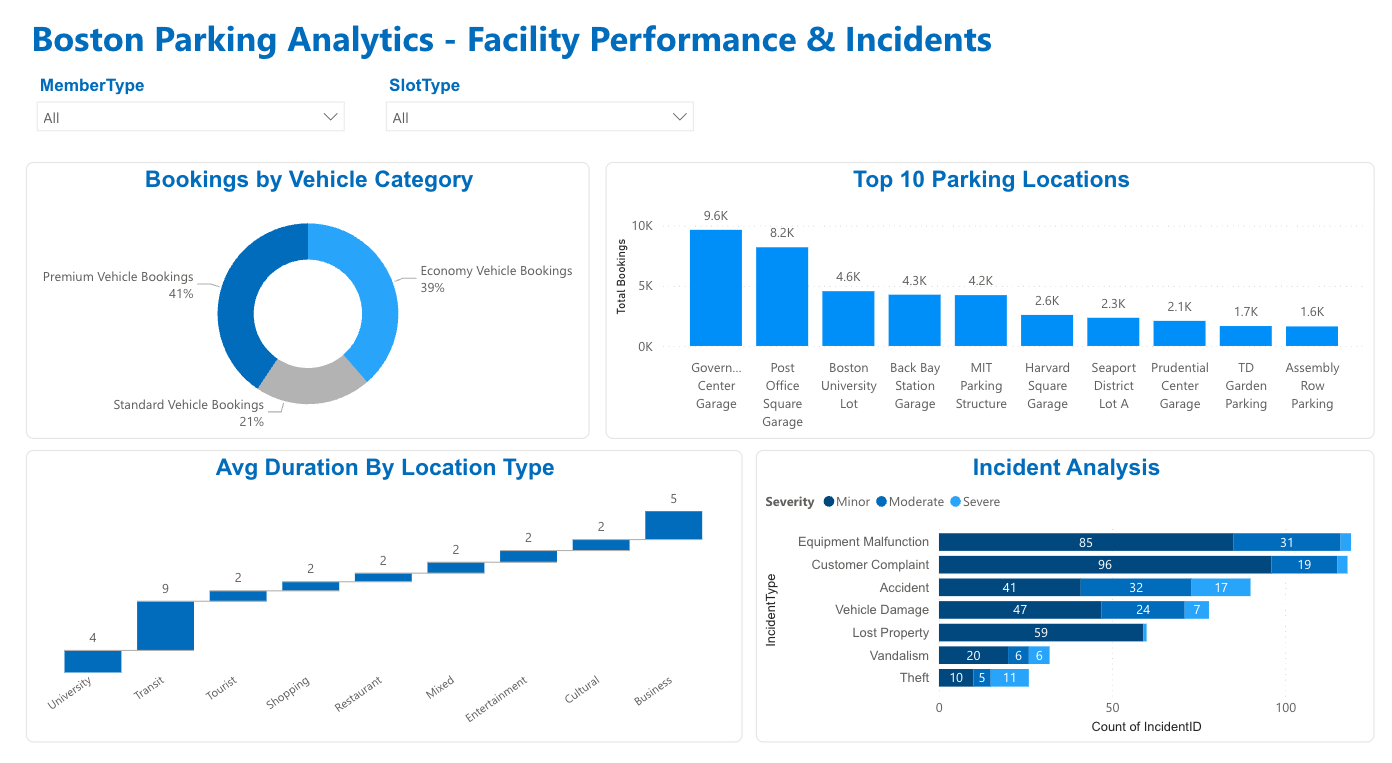

The page's visual inventory and layout, read from the dashboard file:
{"tool":"powerbi","page":{"name":"Facility Performance & Incidents","canvas":[1280,720],"ordinal":3},"visuals":[{"type":"clusteredColumnChart","title":"Top 10 Parking Locations","fields":{"Category":["Locations.LotName"],"Y":["Bookings.Total Bookings"]},"box":[548.5,159.7,716.1,257.9],"z":0},{"type":"barChart","title":"Incident Analysis","fields":{"Category":["Incidents.IncidentType"],"Y":["CountNonNull(Incidents.IncidentID)"],"Series":["Incidents.Severity"]},"box":[688.6,428.1,576,272.3],"z":1000},{"type":"donutChart","title":"Bookings by Vehicle Category","fields":{"Y":["Booking Status Table.Economy Vehicle Bookings","Booking Status Table.Standard Vehicle Bookings","Booking Status Table.Premium Vehicle Bookings"]},"box":[9.2,159.7,524.9,257.9],"z":2000},{"type":"textbox","box":[9.2,17,983.1,56.3],"z":3000},{"type":"waterfallChart","title":"Avg Duration By Location Type","fields":{"Category":["Locations.LocationType"],"Y":["Avg(Bookings.DurationHours)"]},"box":[9.2,428.1,666.3,272.3],"z":4000},{"type":"slicer","fields":{"Values":["Locations.SlotType"]},"box":[333.8,73.3,306.3,73.3],"z":5000},{"type":"slicer","fields":{"Values":["Members.MemberType"]},"box":[9.2,73.3,306.3,77.2],"z":6000}]}

Visuals, with their boxes in screenshot pixels (x1, y1, x2, y2), scaled from the page's 1280x720 canvas onto the 1392x763 screenshot:
"Top 10 Parking Locations" clusteredColumnChart: detection(596, 169, 1375, 443)
"Incident Analysis" barChart: detection(749, 454, 1375, 742)
"Bookings by Vehicle Category" donutChart: detection(10, 169, 581, 443)
textbox: detection(10, 18, 1079, 78)
"Avg Duration By Location Type" waterfallChart: detection(10, 454, 735, 742)
slicer - Locations.SlotType: detection(363, 78, 696, 155)
slicer - Members.MemberType: detection(10, 78, 343, 159)
